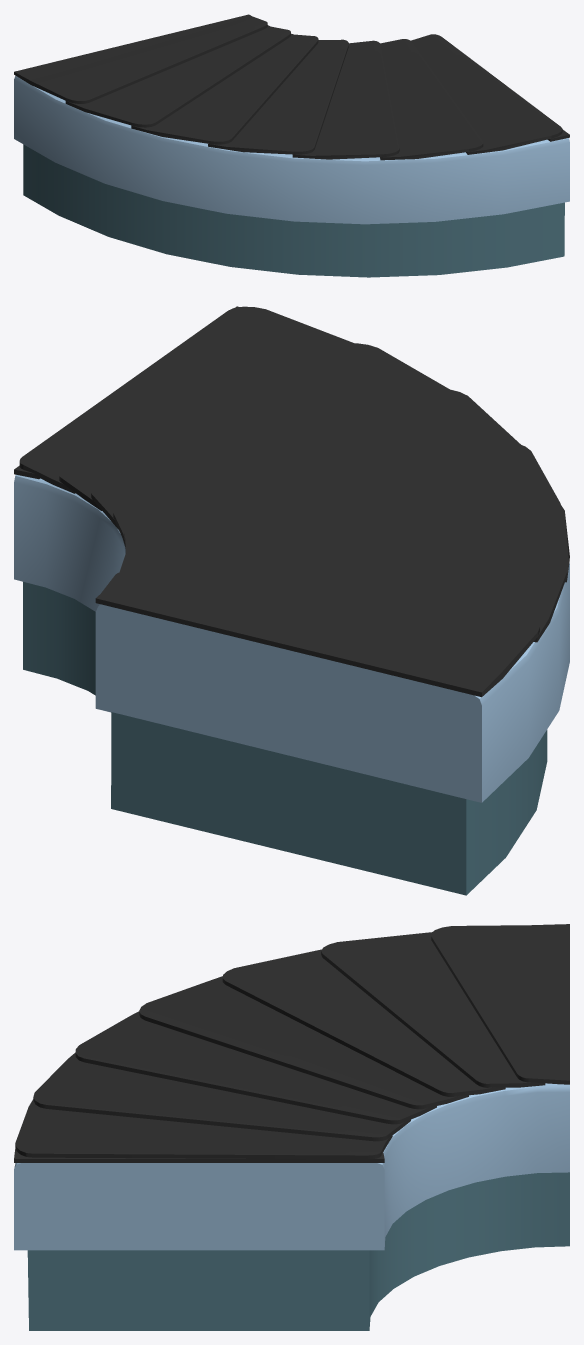
File: Airport_Band4.fbx
The picture shows the model from 3 angles, top to bottom: view 1: azimuth 30°, elevation 25°; view 2: azimuth 150°, elevation 25°; view 3: azimuth 270°, elevation 25°; orthographic projection. The views are drawn at different scales.
Parts seen in each view (by area): view 1: 12.4.BaggageClaimBand; view 2: 12.4.BaggageClaimBand; view 3: 12.4.BaggageClaimBand.
Boxes of the visible parts, box(x1,y1,x2,y2) form: 12.4.BaggageClaimBand: box(14, 14, 569, 277); 12.4.BaggageClaimBand: box(14, 306, 569, 895); 12.4.BaggageClaimBand: box(14, 924, 569, 1330).
Size of what is drawn, in the model's own units: 263 by 91.72 by 263.
1 material, 1 textured.
